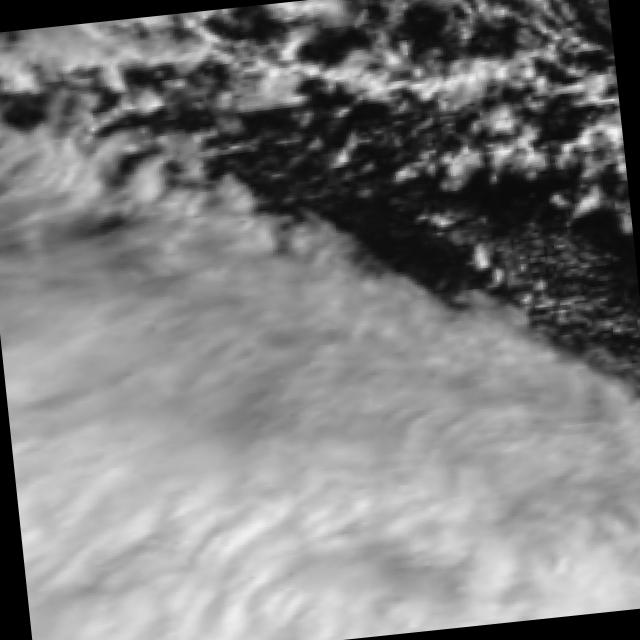CB: (16, 425, 630, 640), (0, 273, 357, 488)
